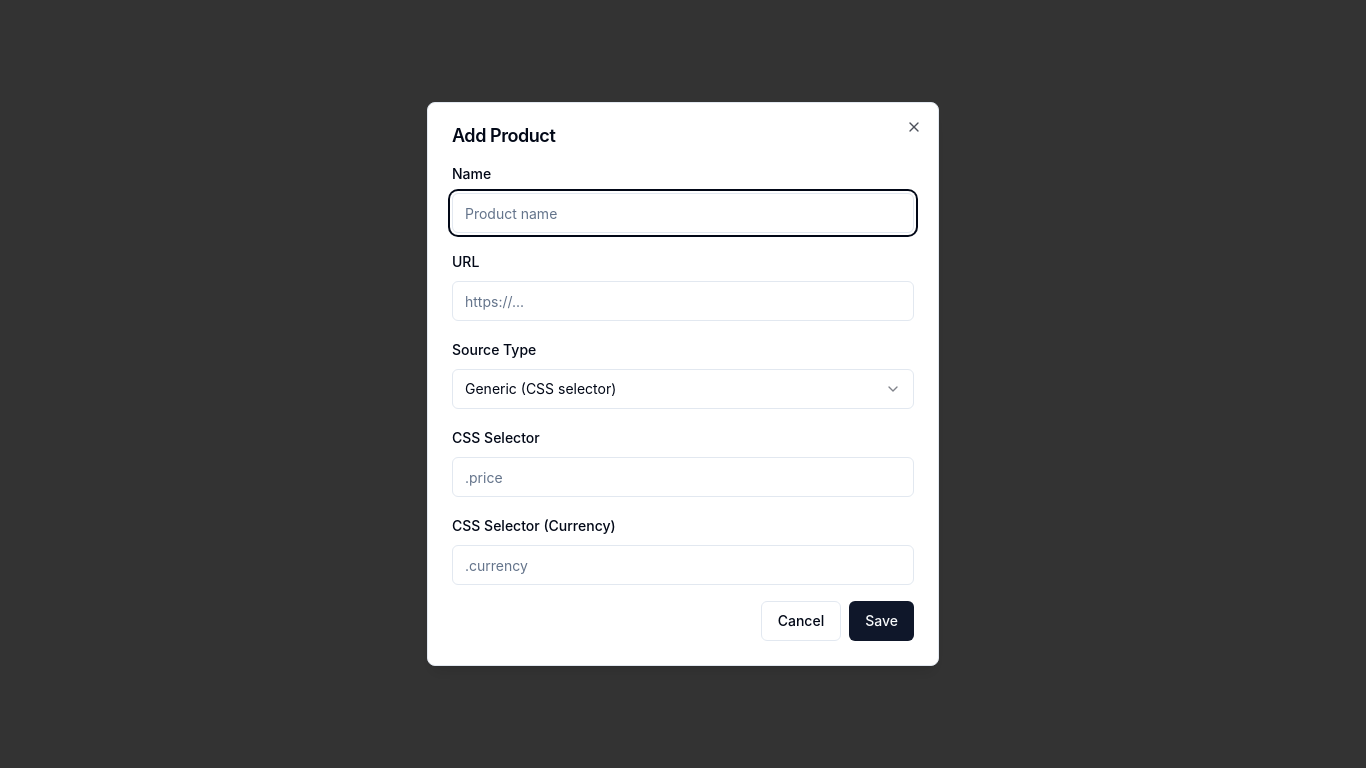
Test: ProductFormDialog › renders source options fetched from GET /api/v1/sources
Click the dropdown. click: x=541, y=388
box: [452,369,914,409]
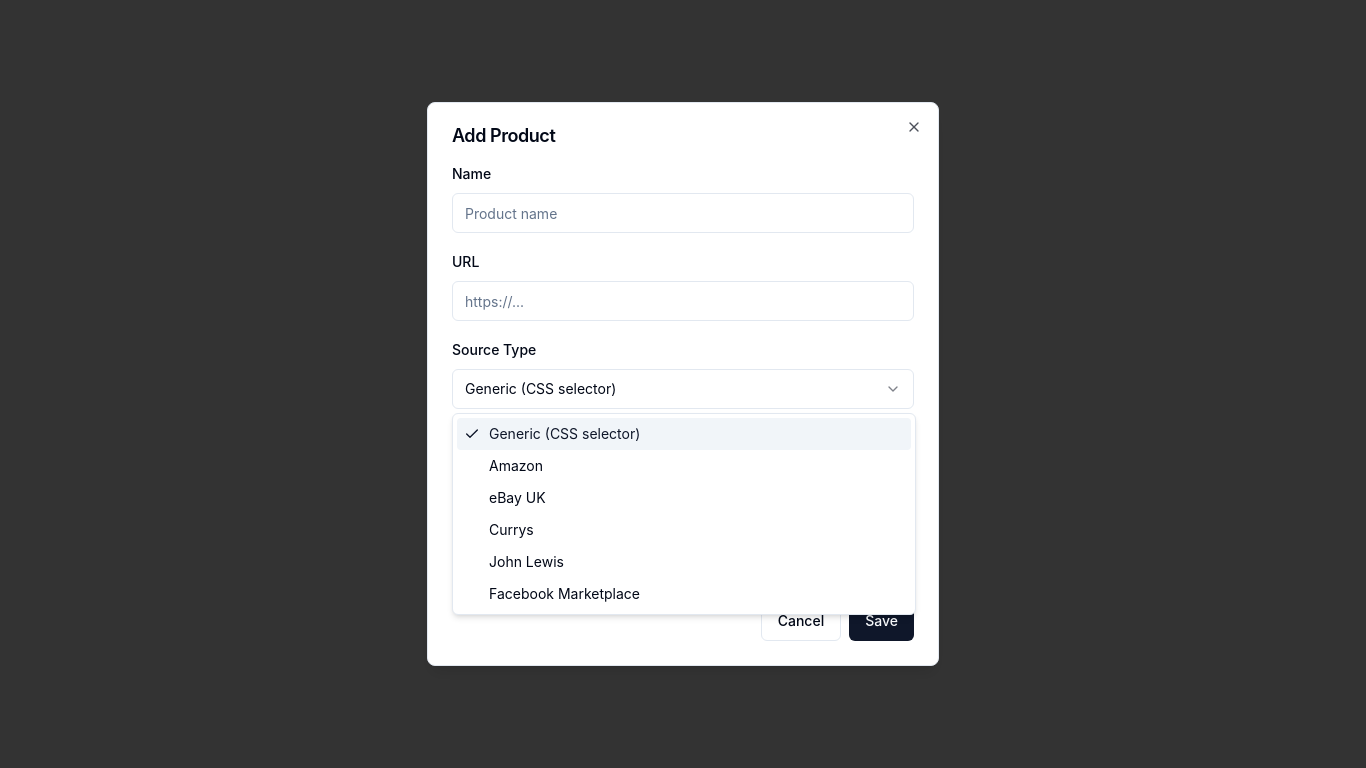
Result: the option "John Lewis" is shown at [489,553,564,570]
Result: the option "eBay UK" is shown at [489,489,546,506]
Result: the option "Facebook Marketplace" is shown at [489,585,640,602]
